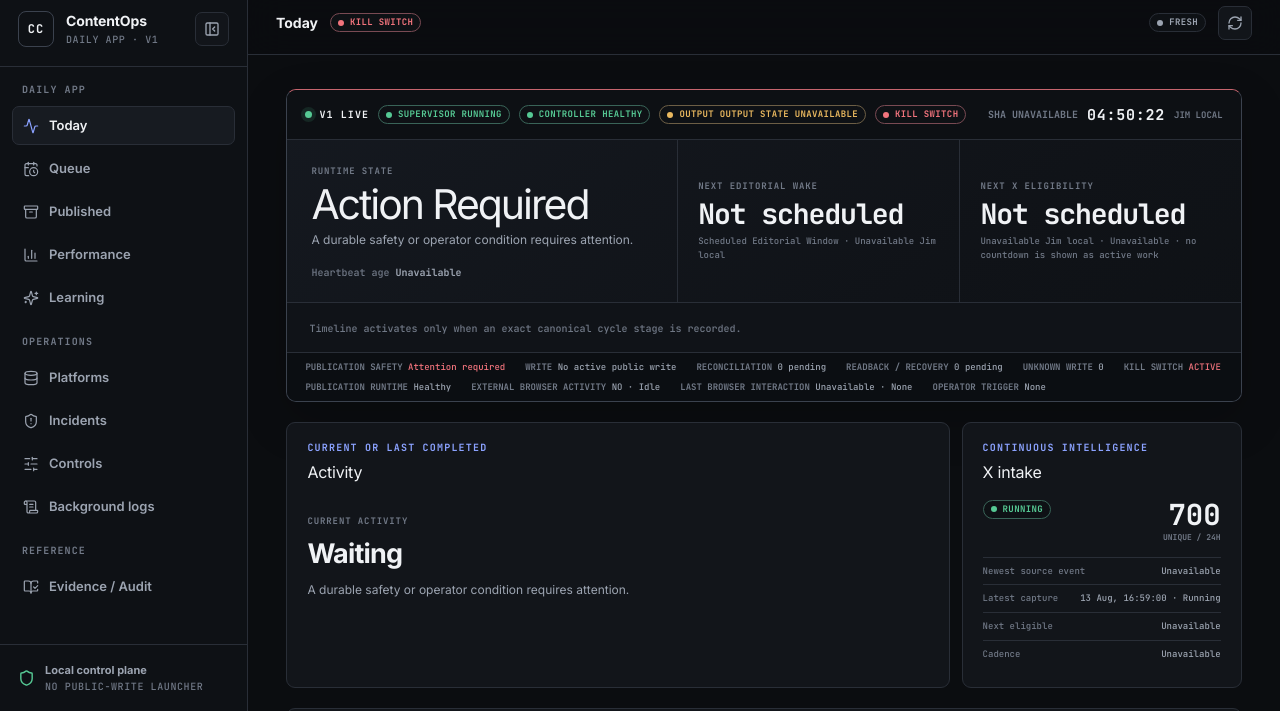
Test case: shows latest hourly audit and sends the exact confirmed safe-shutdown payload
Click the button "Controls": coordinates (124, 464) [12,444,235,483]
(page scrolled)
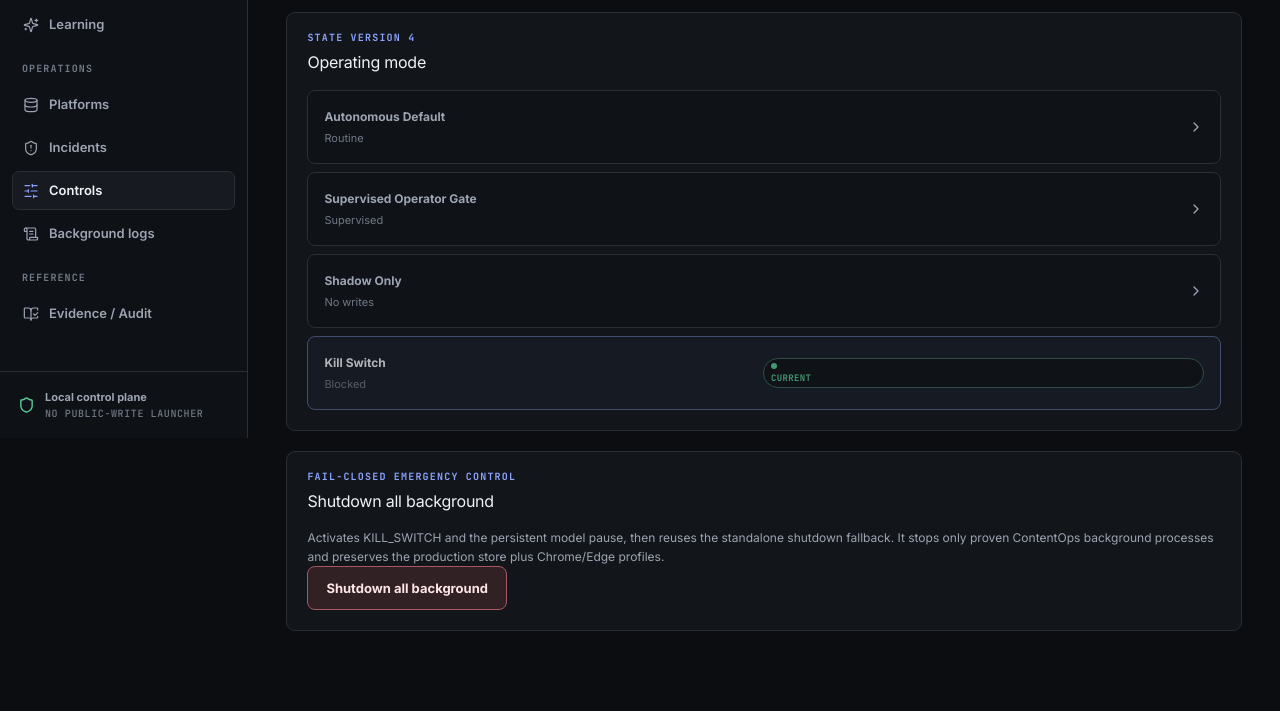
Click the button "Shutdown all background": coordinates (407, 588) [307,566,507,610]
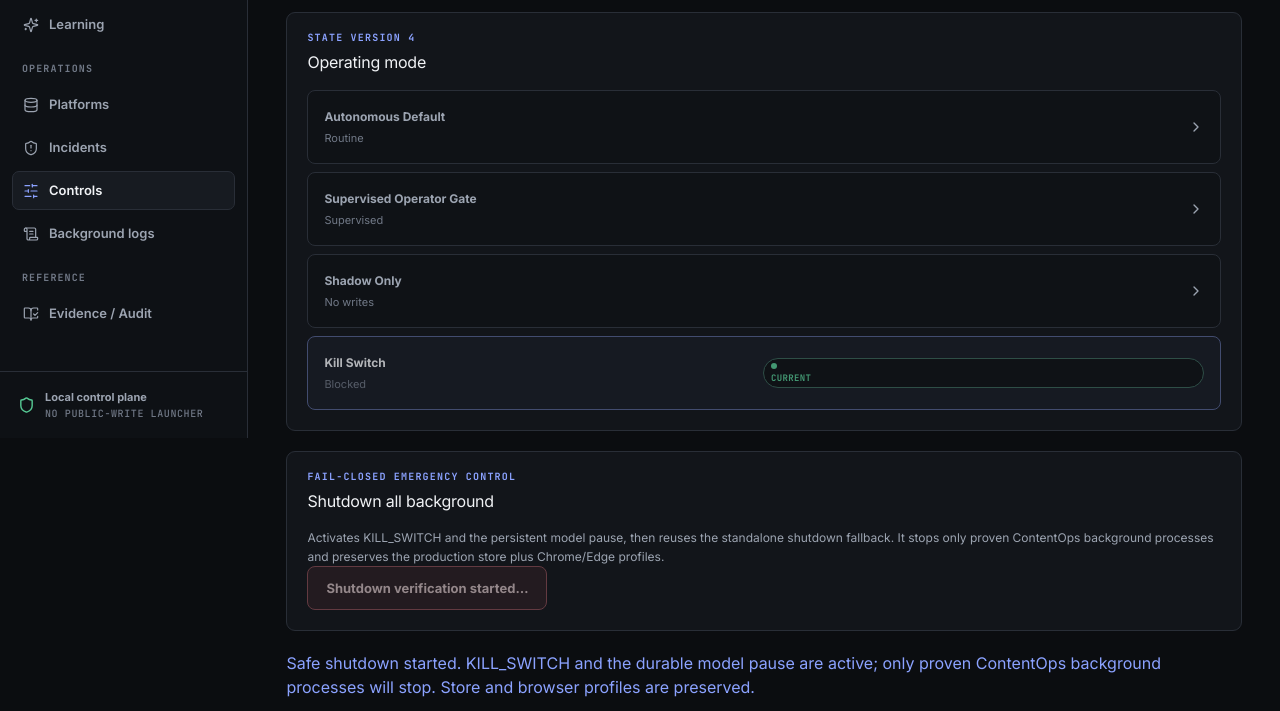
Check: the text "Safe shutdown started" is shown, box [286,653,1161,697]
